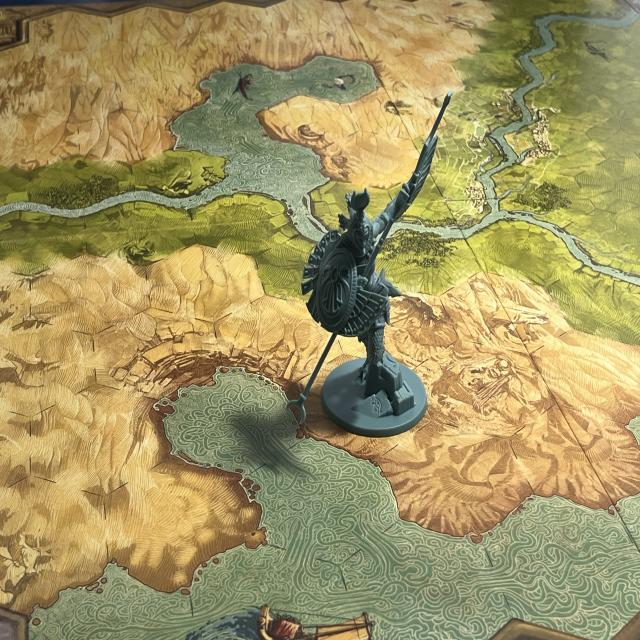isis: (278, 83, 456, 452)
